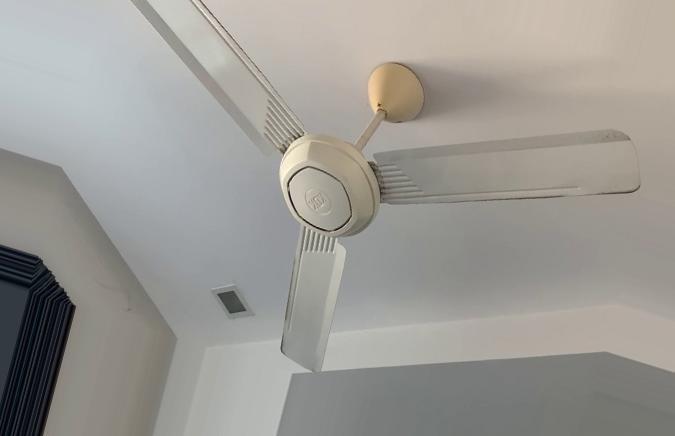fan: (115, 0, 648, 374)
light: (210, 280, 258, 333)
